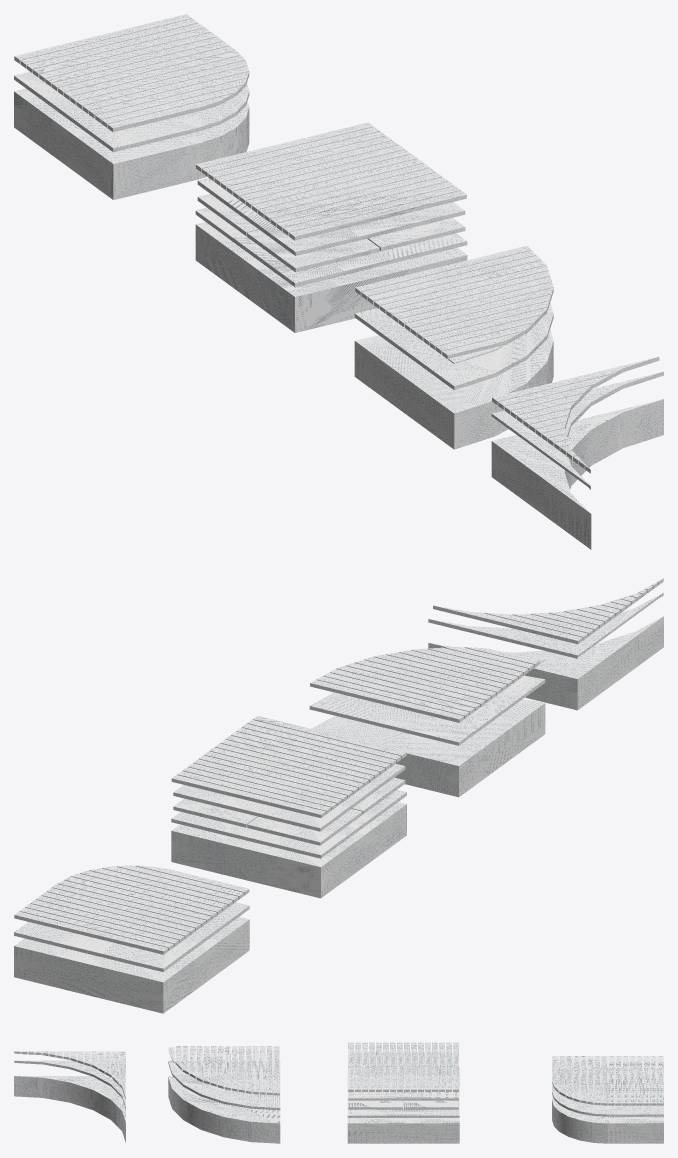
Rendered from Floor Sections 1.dae.
The picture shows the model from 3 angles, top to bottom: view 1: azimuth 30°, elevation 25°; view 2: azimuth 150°, elevation 25°; view 3: azimuth 270°, elevation 25°; orthographic projection. The views are drawn at different scales.
Visible parts, largest first — view 1: SketchUp (×59); view 2: SketchUp (×56); view 3: SketchUp (×60).
Part boxes in pixels (box(x1,y1,x2,y2)): SketchUp (×59): box(14, 14, 663, 549); SketchUp (×56): box(14, 592, 663, 1013); SketchUp (×60): box(14, 1042, 663, 1143).
Bounding box in the file's own units: 2 × 11.6 × 1.07.
